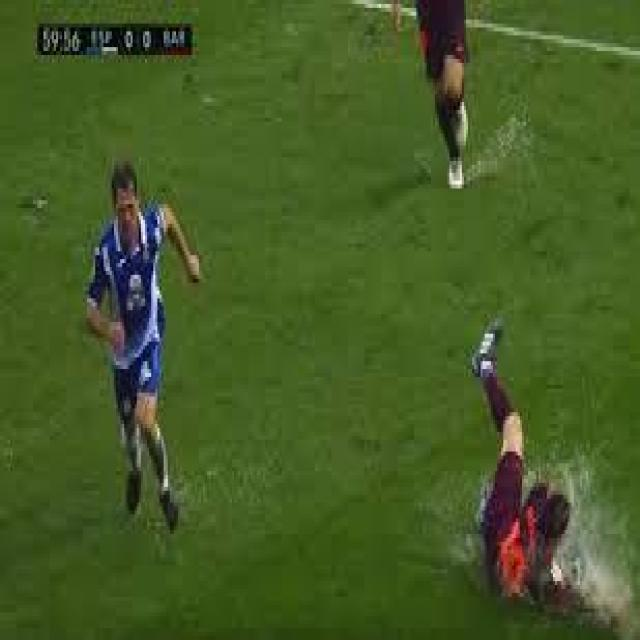fall: (454, 287, 598, 624)
nonfall: (81, 157, 201, 542), (409, 0, 477, 206)
